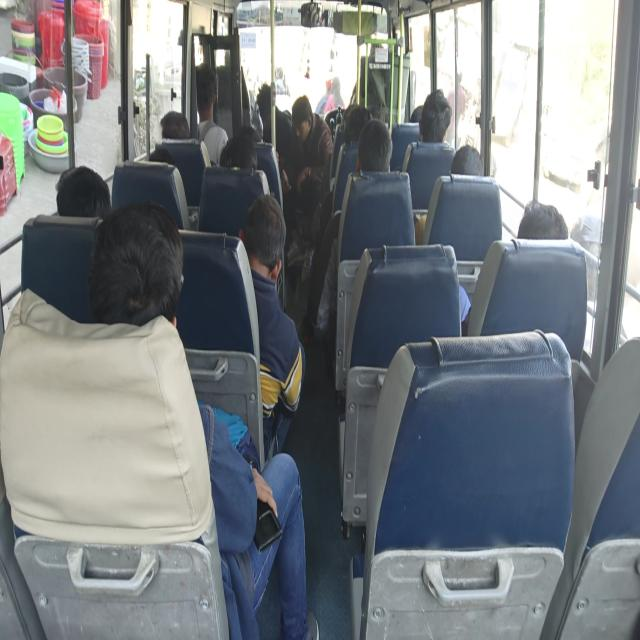person: (107, 224, 168, 327), (240, 191, 283, 286), (61, 159, 118, 221), (349, 124, 394, 178), (156, 106, 202, 149), (220, 136, 266, 179), (516, 203, 570, 239), (447, 137, 492, 174), (135, 142, 180, 174), (252, 82, 280, 130), (337, 98, 375, 132), (421, 99, 446, 146), (358, 33, 388, 72), (286, 94, 314, 134), (192, 67, 213, 105), (223, 27, 239, 62), (406, 96, 428, 120)
